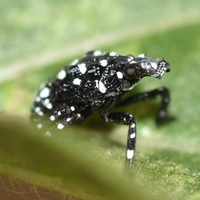insect: (32, 50, 169, 159)
